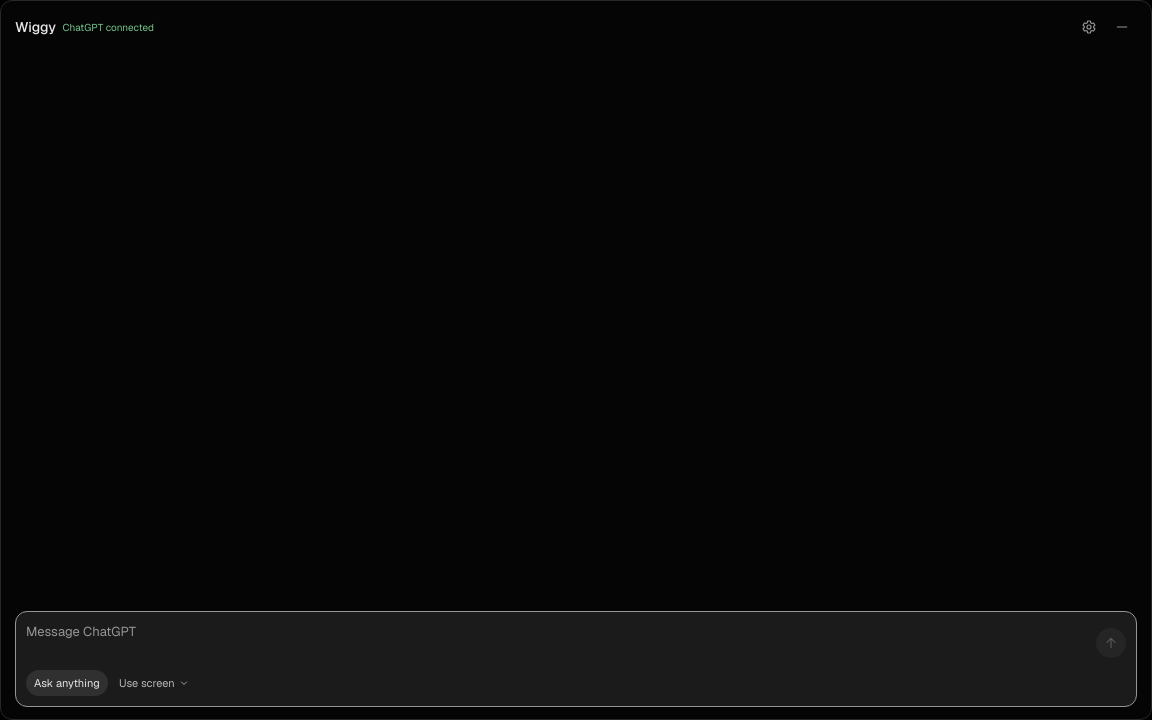
Test case: chat and settings › preserves the draft after capture cancellation and shows real capture errors
Expected: the button "Use screen" is enabled, [111,670,198,696]
Type "Keep my draft" into the text box named "Your message" at (557, 643), box [26,622,1088,664]
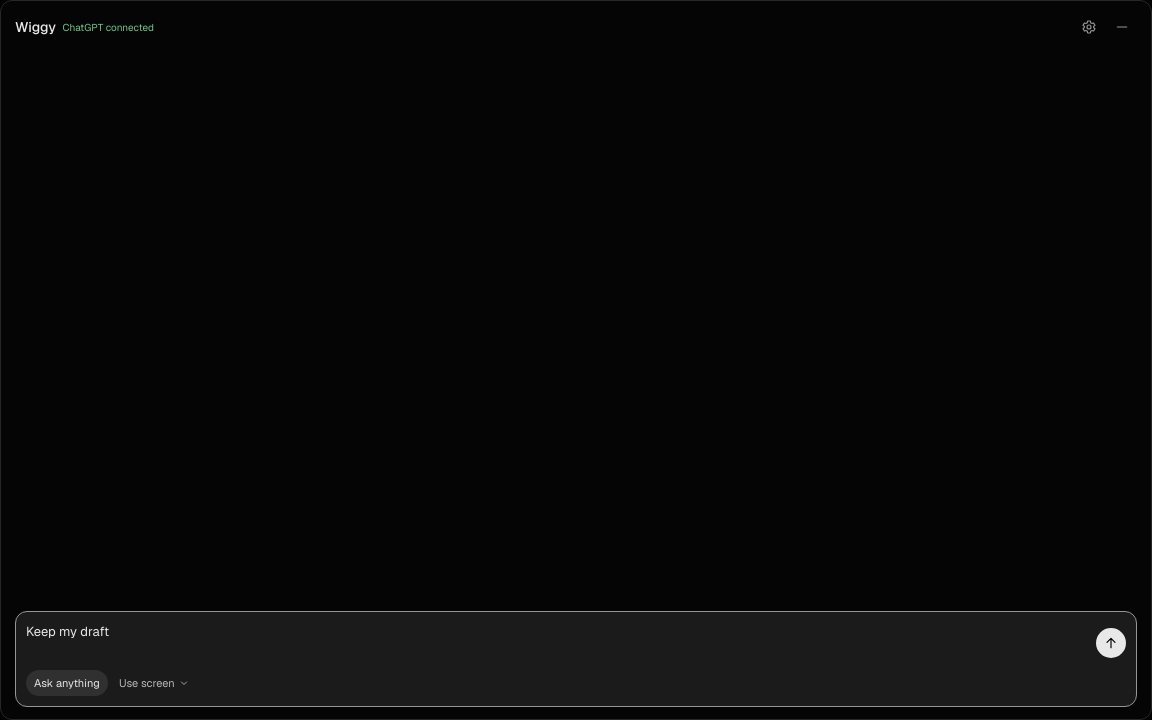
Click the button "Use screen" at (154, 683), box [111,670,198,696]
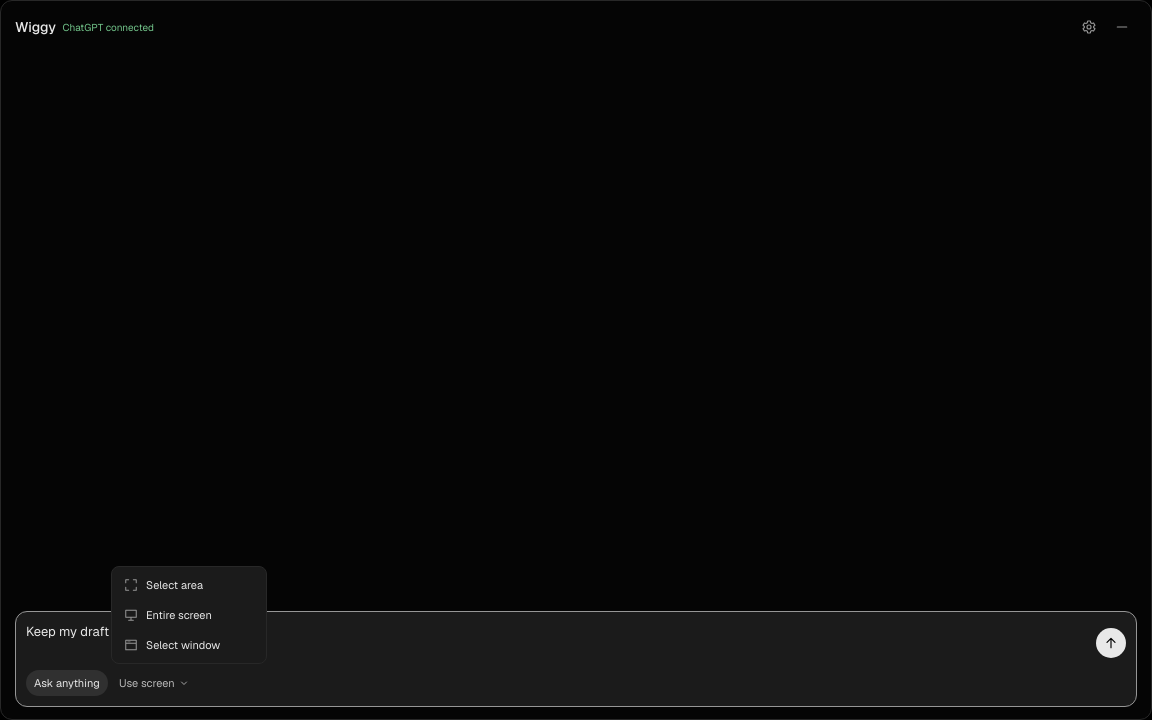
Click the button "Select area" at (189, 585), box [116,571,262,599]
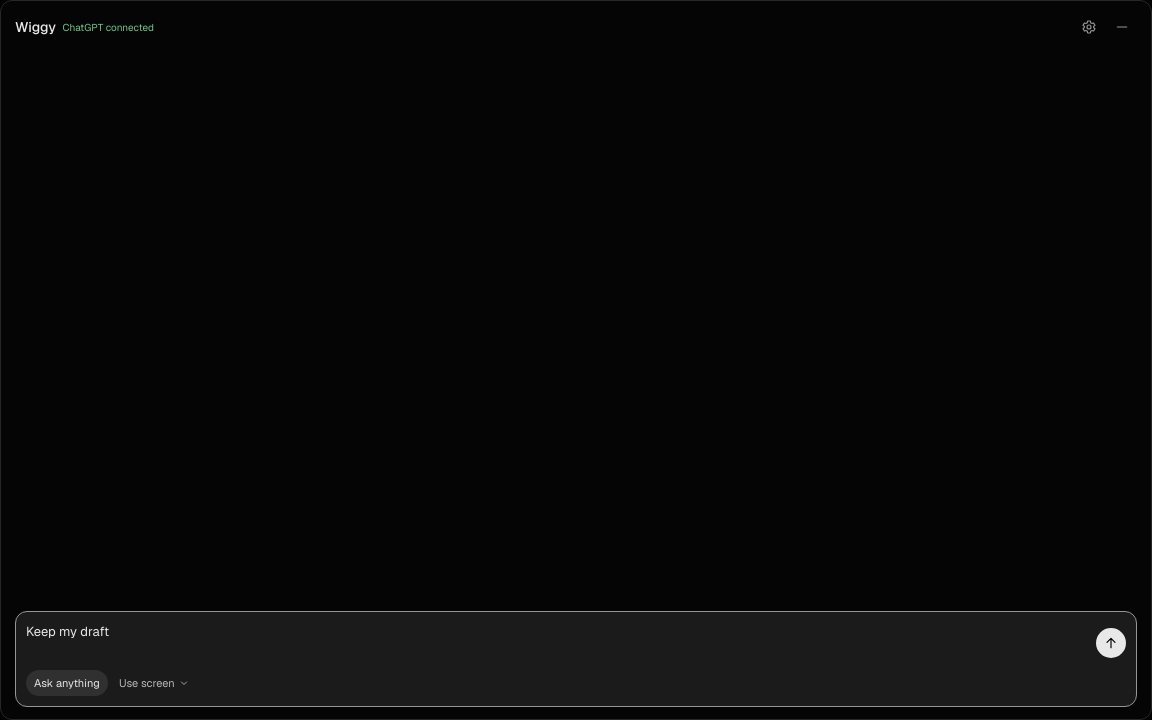
Click the button "Use screen" at (154, 683), box [111,670,198,696]
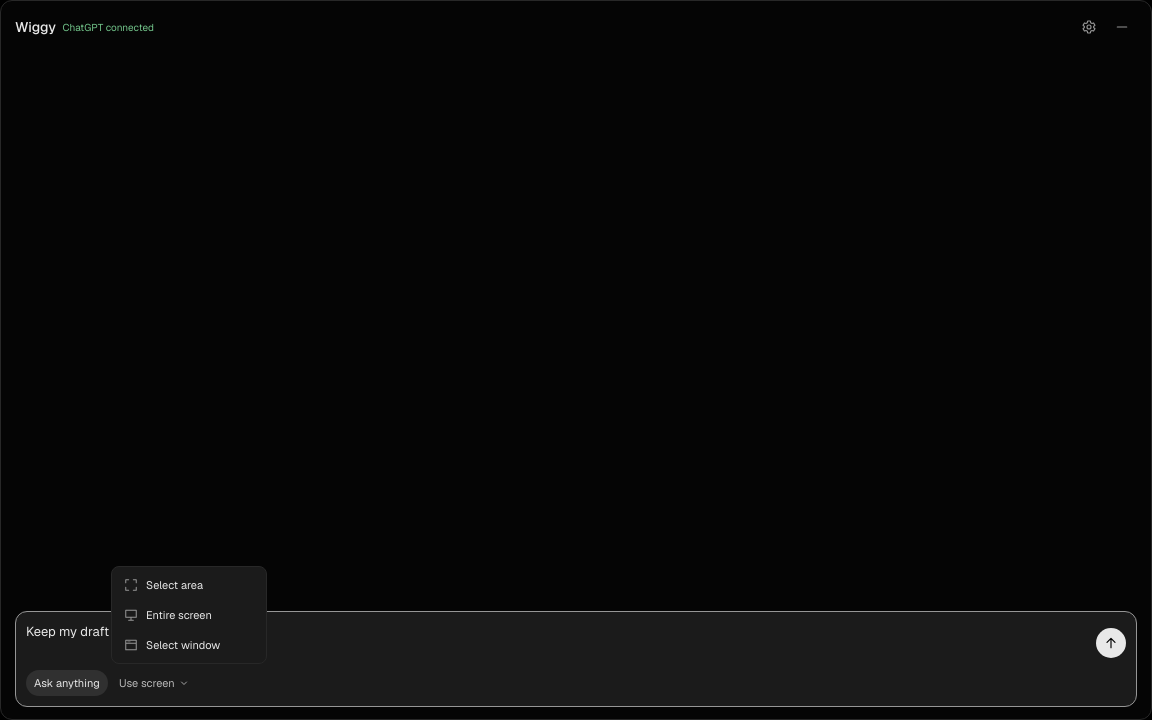
Click the button "Entire screen" at (189, 615), box [116,601,262,629]
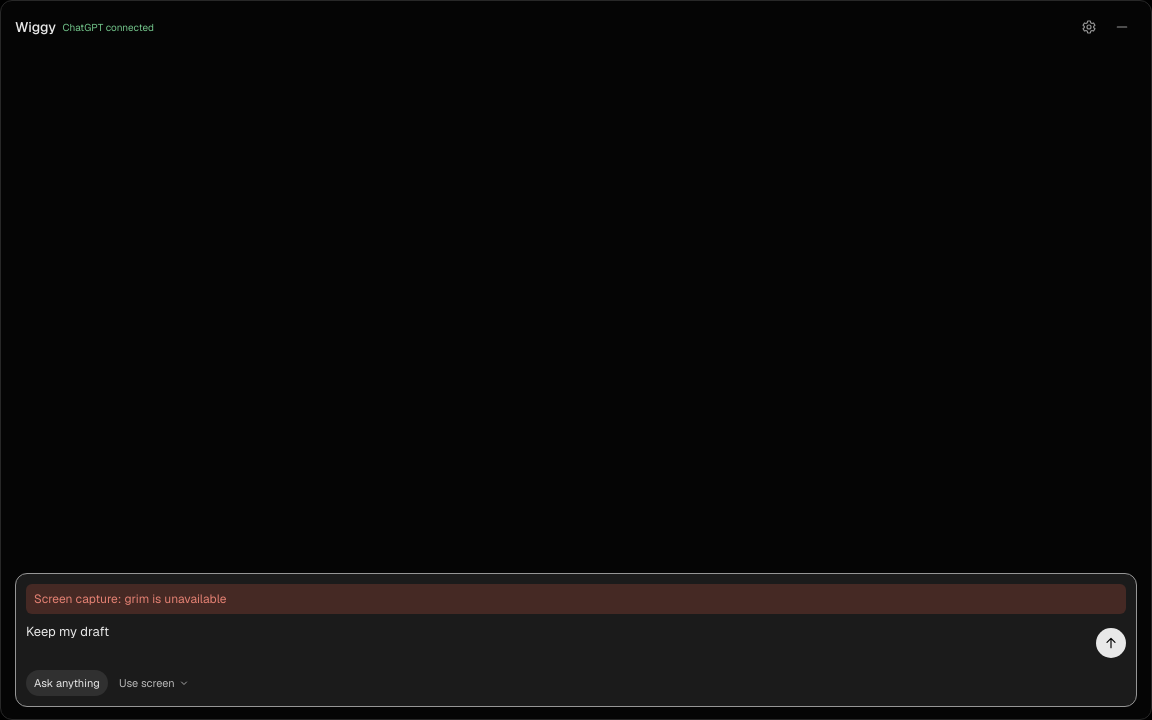
Now the message shows "grim is unavailable", box [34,591,226,607]
